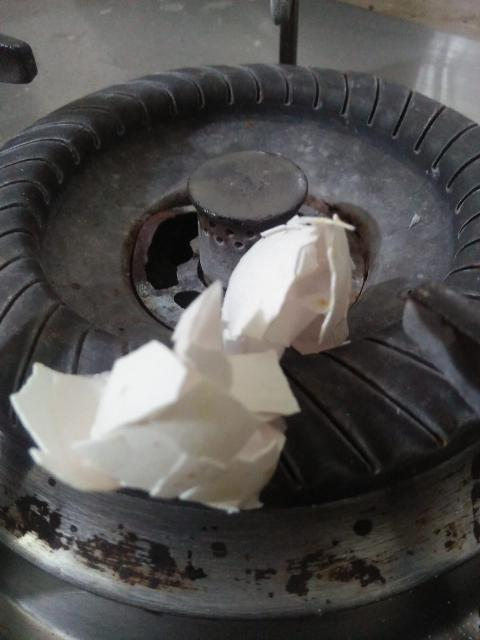Roto: (10, 212, 357, 513)
